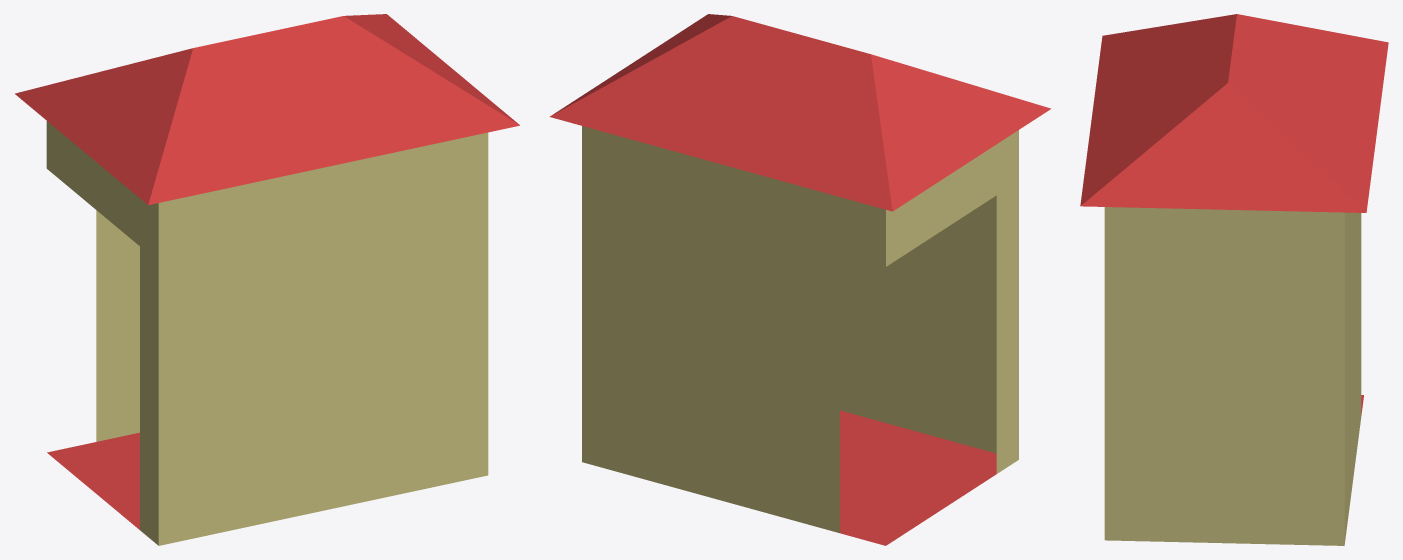
The picture shows the model from 3 angles, left to right: view 1: azimuth 30°, elevation 25°; view 2: azimuth 150°, elevation 25°; view 3: azimuth 270°, elevation 25°; orthographic projection. The views are drawn at different scales.
Parts seen in each view (by area): view 1: group_5, group_3, group_6, group_4; view 2: group_5, group_3, group_6, group_4; view 3: group_5, group_3, group_4.
Boxes of the visible parts, bbox=[...] form: group_5: bbox=[46, 121, 488, 545]; group_3: bbox=[15, 14, 518, 205]; group_6: bbox=[47, 432, 139, 529]; group_4: bbox=[325, 14, 519, 143]; group_5: bbox=[582, 126, 1018, 533]; group_3: bbox=[549, 14, 1050, 211]; group_6: bbox=[840, 410, 996, 545]; group_4: bbox=[550, 14, 892, 211]; group_5: bbox=[1104, 207, 1361, 545]; group_3: bbox=[1080, 14, 1388, 212]; group_4: bbox=[1080, 37, 1388, 212].
Bounding box in the file's own units: 13.5 × 9.93 × 14.89.
